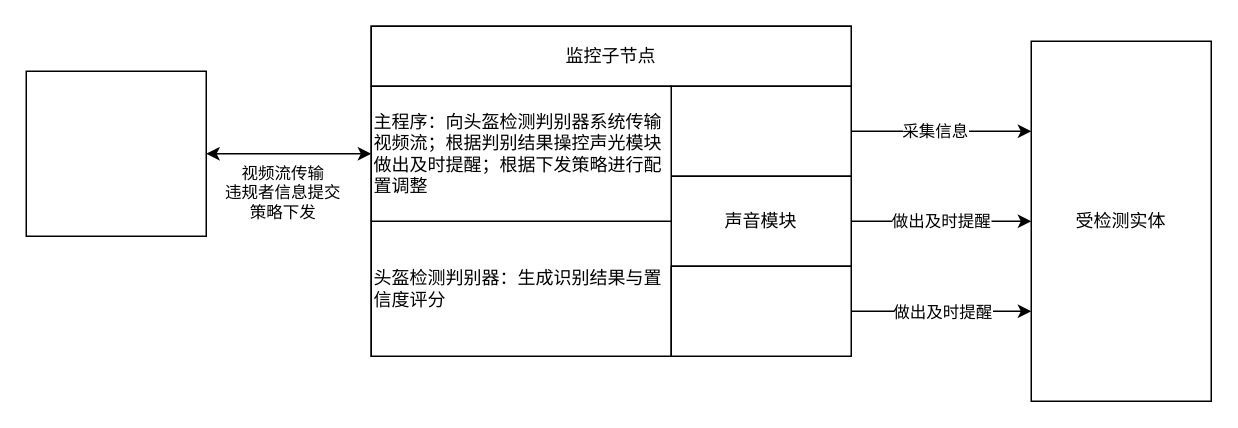
Image size: 1238x428. Some labels were removed from this diagram. Each missing label, with the centre of its shape:
"中继节点" belongs at [115,153].
"光照模块" belongs at [760,310].
"摄像头模块" belongs at [760,130].
